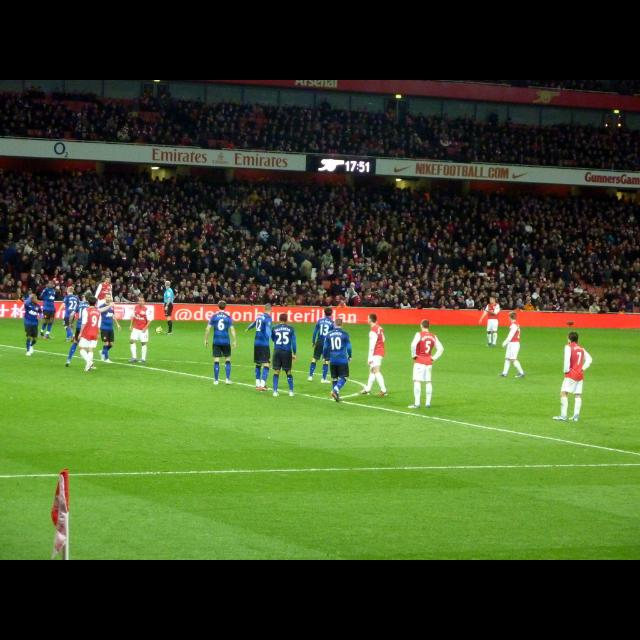Football: (155, 326, 161, 332)
